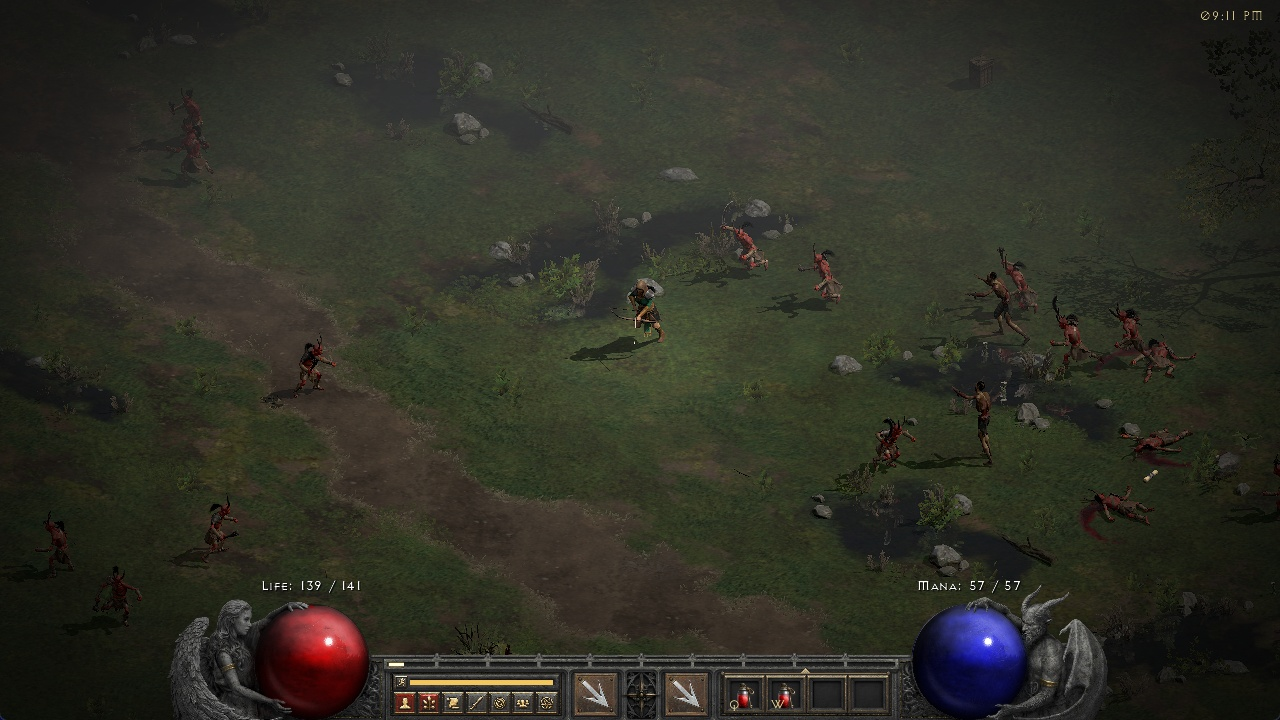fallen: (718, 196, 772, 271), (802, 242, 854, 307), (871, 415, 923, 474), (288, 332, 337, 393), (39, 514, 82, 578), (98, 565, 141, 628), (1046, 300, 1086, 361), (201, 495, 241, 554), (1001, 250, 1041, 302), (173, 134, 215, 182), (1108, 304, 1149, 349), (172, 92, 213, 129)
